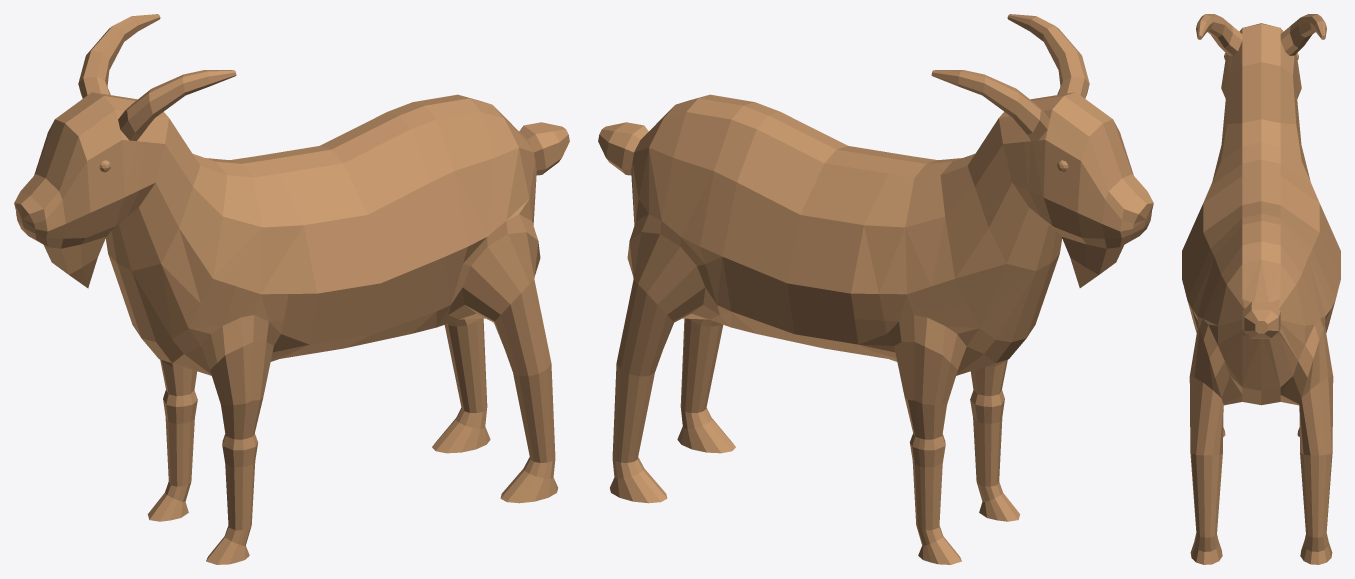
File: Low-poly_Goat.glb
3 renders of one model, left to right at view 1: azimuth 30°, elevation 25°; view 2: azimuth 150°, elevation 25°; view 3: azimuth 270°, elevation 25°, orthographic. The views are drawn at different scales.
Parts seen in each view (by area): view 1: Plane_0, Plane_1, Plane_2; view 2: Plane_0, Plane_1, Plane_2; view 3: Plane_0, Plane_1, Plane_2.
Boxes of the visible parts, left/top/right/bottom form: Plane_0: left=14, top=92, right=569, bottom=545; Plane_1: left=78, top=14, right=236, bottom=141; Plane_2: left=147, top=418, right=557, bottom=564; Plane_0: left=598, top=92, right=1153, bottom=545; Plane_1: left=931, top=14, right=1089, bottom=141; Plane_2: left=610, top=418, right=1020, bottom=564; Plane_0: left=1182, top=23, right=1340, bottom=551; Plane_1: left=1196, top=14, right=1326, bottom=55; Plane_2: left=1190, top=427, right=1332, bottom=564.
Size of the model in its own units: 7.97 by 7.03 by 2.49.
